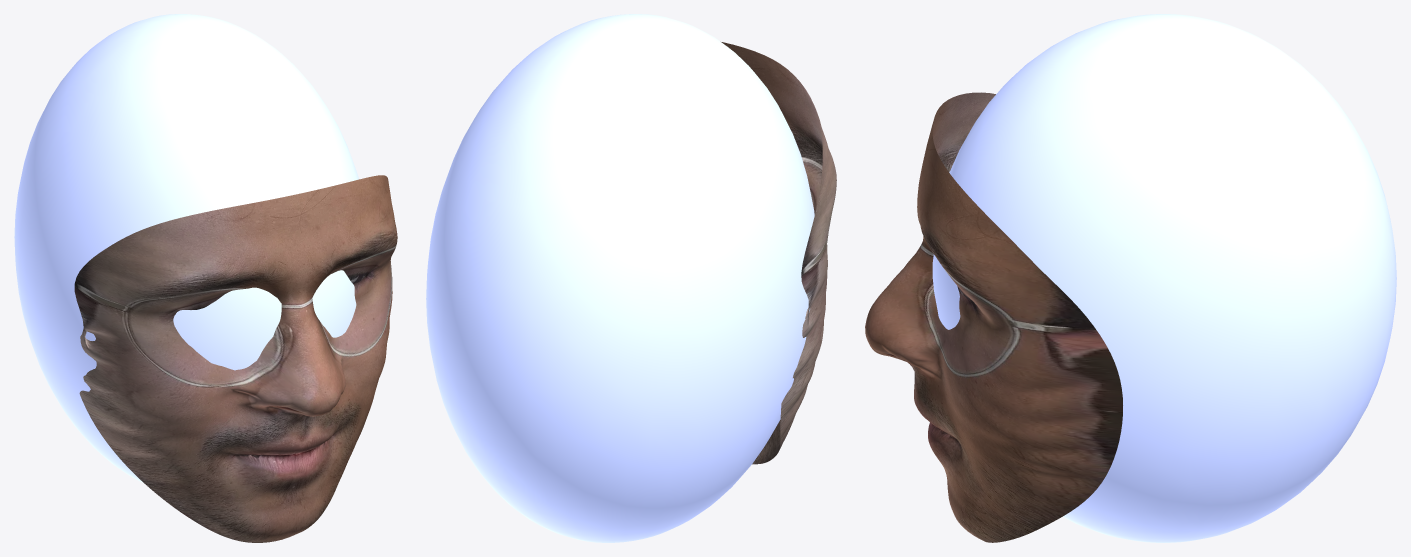
The model's file is head.glb.
The picture shows the model from 3 angles, left to right: view 1: azimuth 30°, elevation 25°; view 2: azimuth 150°, elevation 25°; view 3: azimuth 270°, elevation 25°; orthographic projection. The views are drawn at different scales.
Parts seen in each view (by area): view 1: Face, Cranium; view 2: Cranium, Face; view 3: Cranium, Face.
Boxes of the visible parts, left/top/right/bottom form: Face: left=74, top=175, right=397, bottom=542; Cranium: left=14, top=14, right=358, bottom=482; Cranium: left=426, top=14, right=814, bottom=542; Face: left=721, top=42, right=836, bottom=464; Cranium: left=932, top=14, right=1396, bottom=542; Face: left=865, top=92, right=1122, bottom=542.
Size of the model in its own units: 1.01 by 1.49 by 1.42.
2 materials, 1 textured.
